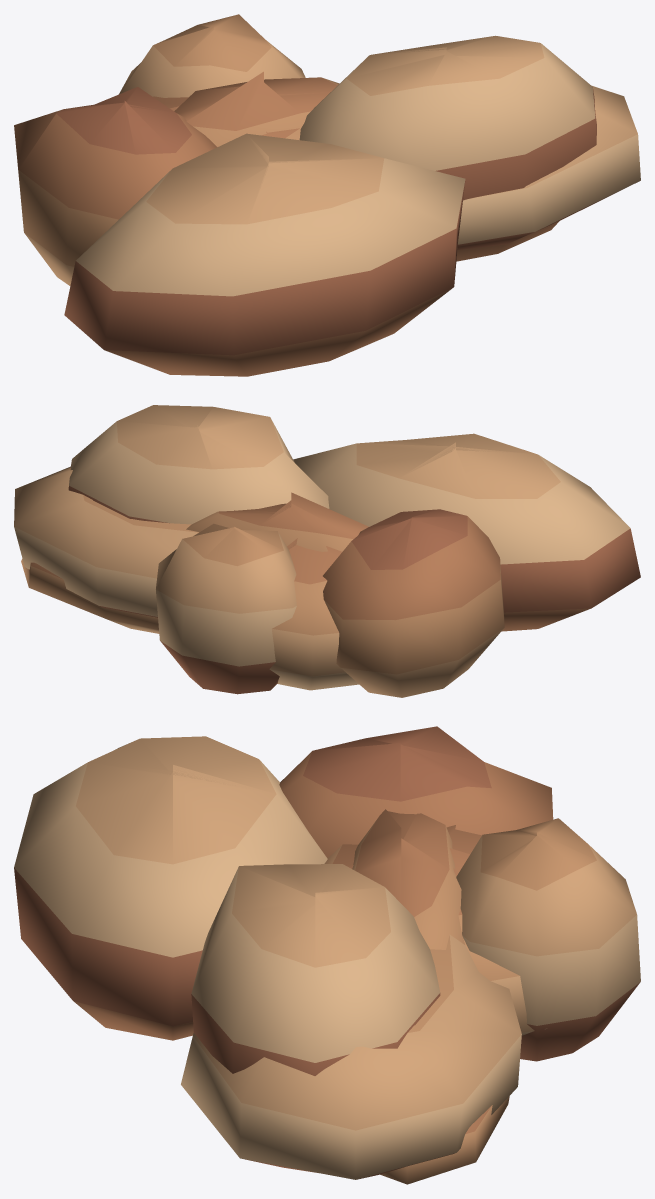
Rendered from SM_CanyonTalus_03.glb.
3 renders of one model, top to bottom at view 1: azimuth 30°, elevation 25°; view 2: azimuth 150°, elevation 25°; view 3: azimuth 270°, elevation 25°, orthographic. The views are drawn at different scales.
Visible parts, largest first — view 1: SM_CanyonTalus_03; view 2: SM_CanyonTalus_03; view 3: SM_CanyonTalus_03.
Boxes of the visible parts, bbox=[...] form: SM_CanyonTalus_03: bbox=[14, 14, 640, 376]; SM_CanyonTalus_03: bbox=[14, 405, 640, 697]; SM_CanyonTalus_03: bbox=[14, 726, 640, 1184].
Bounding box in the file's own units: 7.18 × 2.26 × 5.37.
